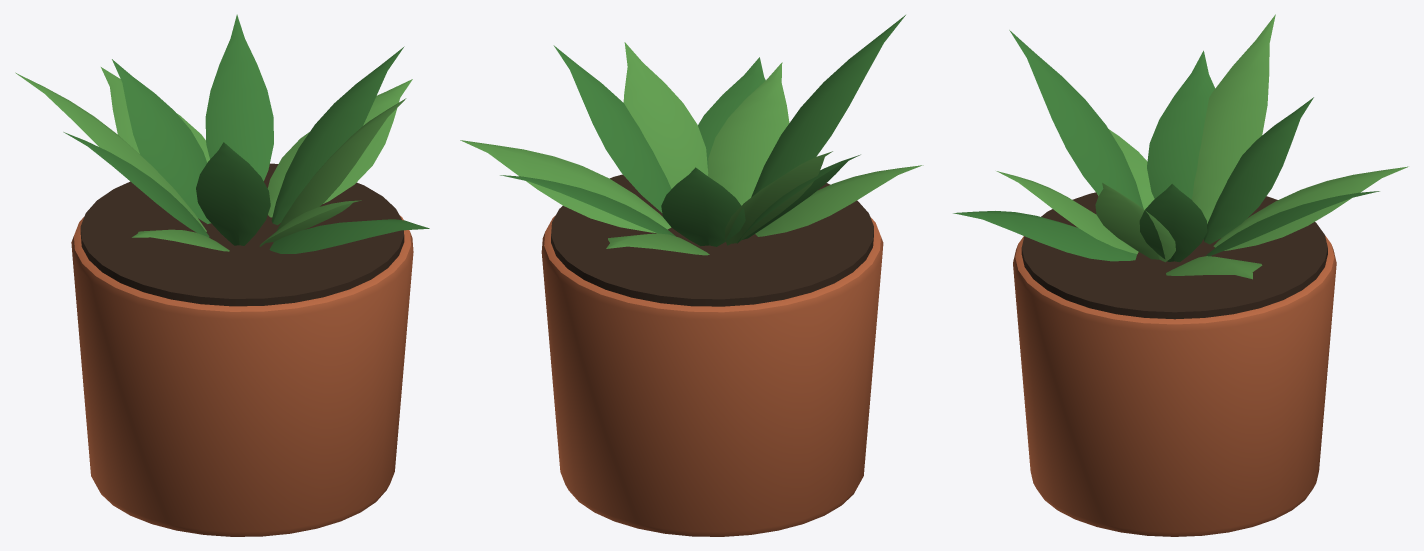
File: plant_small.glb
The picture shows the model from 3 angles, left to right: view 1: azimuth 30°, elevation 25°; view 2: azimuth 150°, elevation 25°; view 3: azimuth 270°, elevation 25°; orthographic projection. The views are drawn at different scales.
Visible parts, largest first — view 1: cyl, cyl.001, leaf.002, leaf.004, leaf.008, leaf, leaf.011, leaf.001, leaf.010, leaf.005, leaf.006, leaf.003 (+2 smaller); view 2: cyl, cyl.001, leaf.009, leaf.011, leaf.008, leaf, leaf.001, leaf.004, leaf.007, leaf.005, leaf.010, leaf.002 (+2 smaller); view 3: cyl, cyl.001, leaf.005, leaf.008, leaf.006, leaf.004, leaf.003, leaf.010, leaf, leaf.011, leaf.009, leaf.002 (+2 smaller).
Boxes of the visible parts, x1=… form: cyl: x1=71, y1=215, x2=413, y2=536; cyl.001: x1=80, y1=163, x2=404, y2=306; leaf.002: x1=205, y1=14, x2=273, y2=180; leaf.004: x1=112, y1=59, x2=210, y2=223; leaf.008: x1=196, y1=142, x2=270, y2=245; leaf: x1=271, y1=46, x2=404, y2=225; leaf.011: x1=277, y1=98, x2=406, y2=230; leaf.001: x1=267, y1=79, x2=412, y2=217; leaf.010: x1=269, y1=219, x2=429, y2=253; leaf.005: x1=15, y1=72, x2=206, y2=231; leaf.006: x1=63, y1=132, x2=209, y2=237; leaf.003: x1=101, y1=67, x2=209, y2=162; cyl: x1=541, y1=215, x2=883, y2=536; cyl.001: x1=551, y1=174, x2=873, y2=306; leaf.009: x1=708, y1=62, x2=789, y2=205; leaf.011: x1=623, y1=42, x2=708, y2=188; leaf.008: x1=751, y1=15, x2=905, y2=197; leaf: x1=553, y1=45, x2=671, y2=212; leaf.001: x1=460, y1=140, x2=671, y2=232; leaf.004: x1=661, y1=167, x2=745, y2=246; leaf.007: x1=755, y1=165, x2=923, y2=236; leaf.005: x1=724, y1=151, x2=832, y2=245; leaf.010: x1=698, y1=57, x2=765, y2=168; leaf.002: x1=500, y1=175, x2=675, y2=236; cyl: x1=1013, y1=235, x2=1336, y2=536; cyl.001: x1=1021, y1=192, x2=1327, y2=319; leaf.005: x1=1191, y1=14, x2=1275, y2=223; leaf.008: x1=1009, y1=30, x2=1143, y2=208; leaf.006: x1=1147, y1=50, x2=1215, y2=199; leaf.004: x1=1204, y1=97, x2=1313, y2=244; leaf.003: x1=1213, y1=166, x2=1408, y2=250; leaf.010: x1=953, y1=211, x2=1137, y2=261; leaf: x1=1139, y1=184, x2=1207, y2=262; leaf.011: x1=1095, y1=183, x2=1175, y2=262; leaf.009: x1=996, y1=171, x2=1138, y2=253; leaf.002: x1=1206, y1=191, x2=1379, y2=256.
Size of the model in its own units: 22.05 by 23.15 by 23.9.
